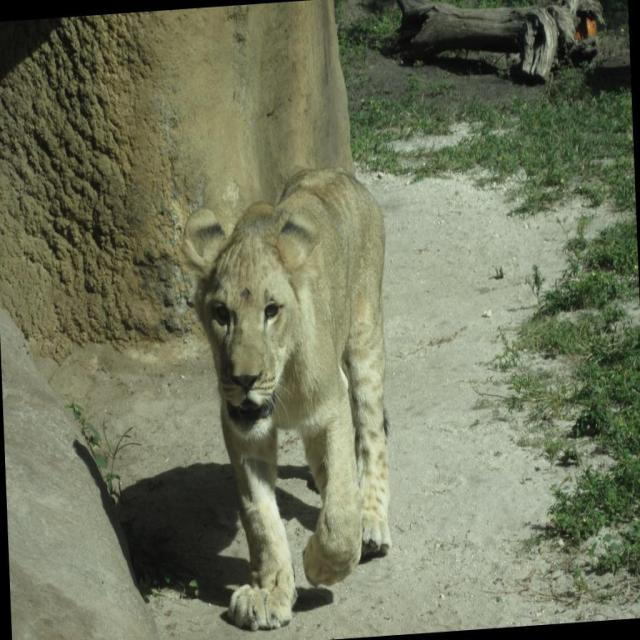Lion: (177, 166, 402, 639)
